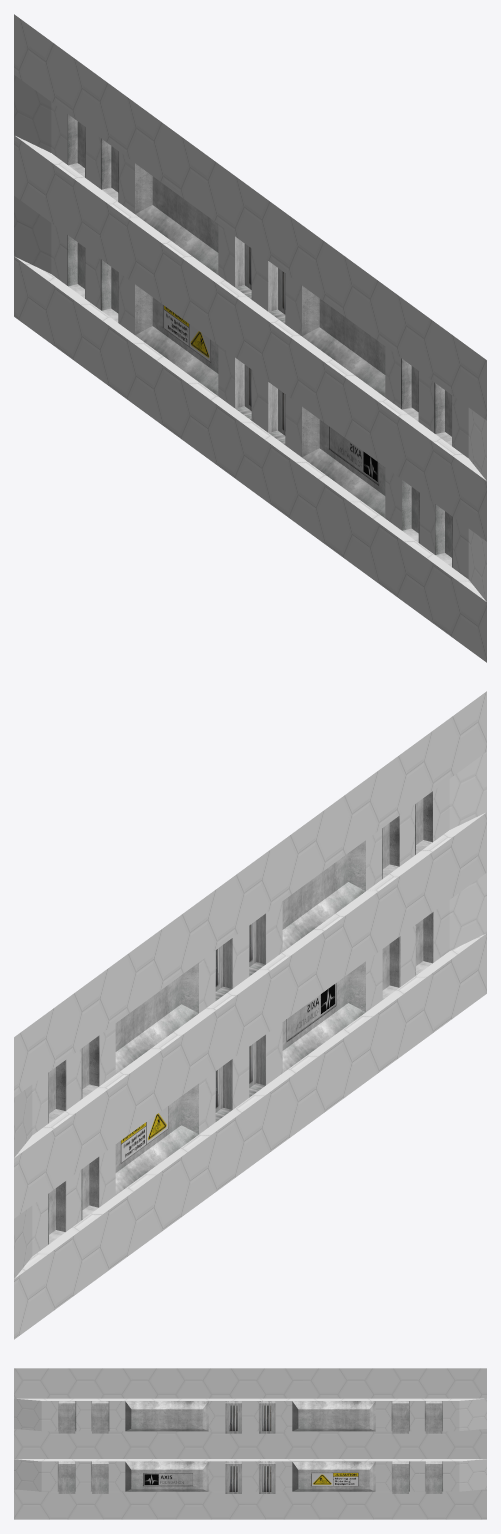
Rendered from AisleWall.fbx.
The picture shows the model from 3 angles, top to bottom: view 1: azimuth 30°, elevation 25°; view 2: azimuth 150°, elevation 25°; view 3: azimuth 270°, elevation 25°; orthographic projection. The views are drawn at different scales.
Visible parts, largest first — view 1: Aisle003; view 2: Aisle003; view 3: Aisle003.
Boxes of the visible parts, x1=… form: Aisle003: x1=14, y1=14, x2=486, y2=662; Aisle003: x1=14, y1=691, x2=486, y2=1339; Aisle003: x1=14, y1=1368, x2=486, y2=1519.
Bounding box in the file's own units: 11.24 × 152 × 432.
Materials: 1 (1 with a texture image).
